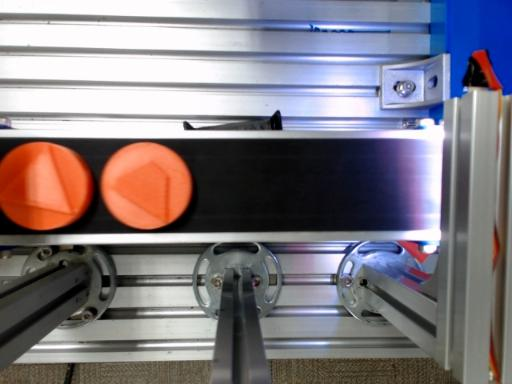Orange_Waper: (0, 142, 93, 230), (102, 142, 192, 229)
